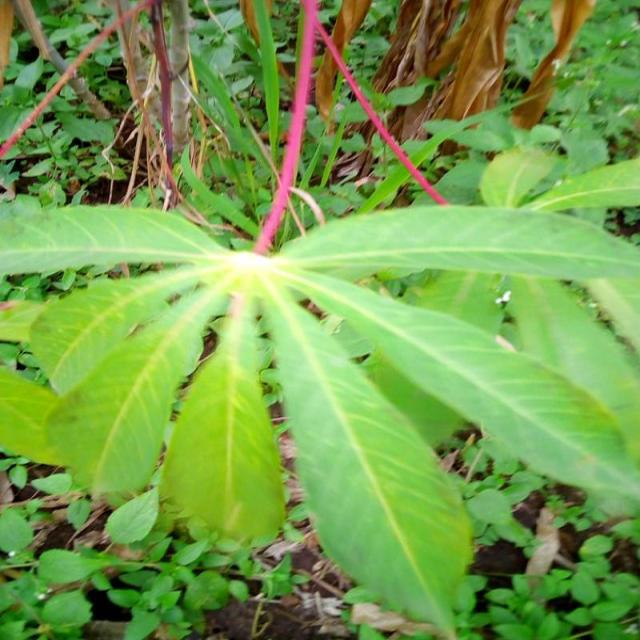cassava leaf: (260, 268, 477, 636), (157, 312, 286, 550)
